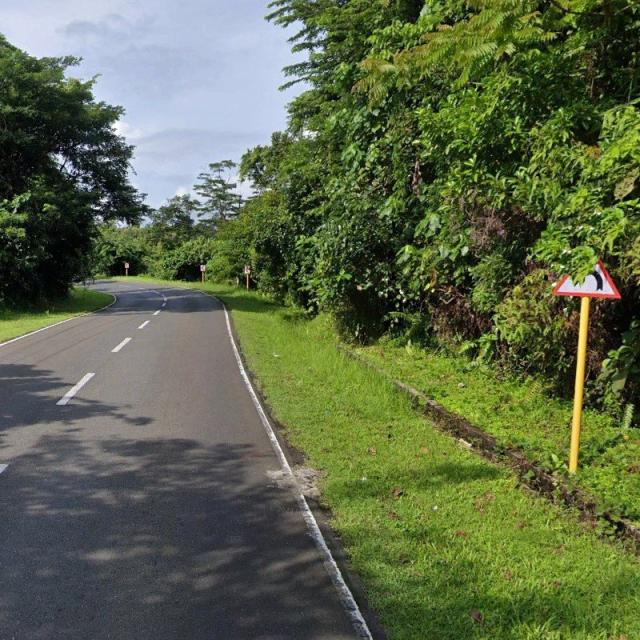warn_left_curve: (552, 232, 622, 299)
